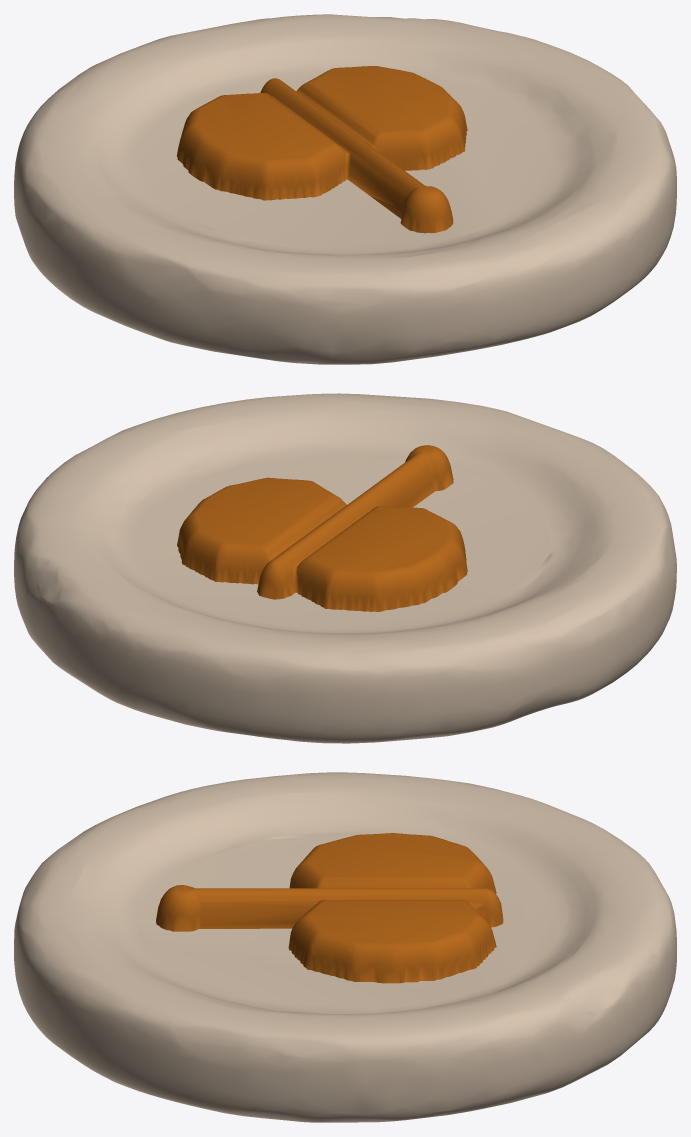
File: token-barbarian-red-draco.glb
The picture shows the model from 3 angles, top to bottom: view 1: azimuth 30°, elevation 25°; view 2: azimuth 150°, elevation 25°; view 3: azimuth 270°, elevation 25°; orthographic projection.
Visible parts, largest first — view 1: token_barbarian_red; view 2: token_barbarian_red; view 3: token_barbarian_red.
Boxes of the visible parts, x1,y1,x2,y2 form: token_barbarian_red: [14, 14, 676, 364]; token_barbarian_red: [14, 393, 676, 743]; token_barbarian_red: [14, 772, 676, 1122].
Size of the model in its own units: 0.414 by 0.0722 by 0.4142.
